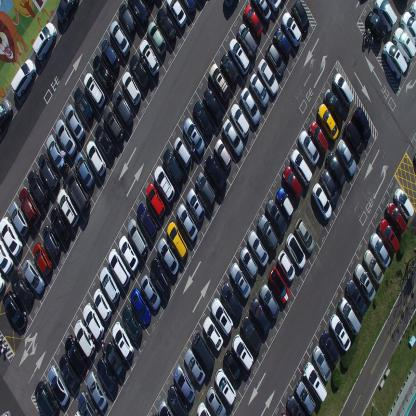car: (65, 168, 91, 214), (1, 289, 28, 330), (10, 57, 36, 98), (31, 21, 57, 61), (382, 40, 408, 80), (46, 364, 70, 406), (303, 360, 327, 402), (10, 268, 34, 308), (182, 116, 205, 157), (0, 215, 23, 256), (204, 155, 226, 197), (149, 256, 171, 298), (264, 198, 287, 238), (221, 118, 244, 158), (57, 188, 80, 228), (220, 282, 243, 322), (37, 152, 60, 192), (108, 248, 131, 288), (192, 332, 215, 372), (210, 296, 233, 336), (353, 262, 376, 302), (338, 296, 361, 336), (173, 364, 196, 404), (166, 221, 188, 262), (157, 236, 179, 277), (73, 318, 95, 359), (55, 118, 77, 159), (64, 335, 86, 376), (240, 314, 262, 355), (392, 26, 416, 63), (176, 204, 198, 244), (130, 285, 152, 325), (247, 230, 269, 270), (82, 302, 104, 342), (153, 163, 175, 203), (192, 99, 214, 139), (209, 62, 231, 102), (112, 321, 134, 361), (86, 371, 108, 411), (58, 353, 80, 393), (317, 102, 339, 142), (104, 340, 127, 378), (290, 148, 313, 186), (297, 129, 320, 167), (35, 380, 59, 416), (22, 258, 46, 294), (99, 265, 120, 306), (127, 217, 148, 258), (256, 214, 278, 253), (112, 89, 134, 128), (27, 169, 49, 208), (92, 54, 114, 93), (162, 147, 184, 186), (96, 357, 118, 396), (232, 333, 254, 372), (18, 187, 40, 226), (250, 297, 271, 337), (258, 57, 279, 97), (74, 152, 96, 190), (229, 263, 251, 301), (268, 266, 290, 304), (329, 313, 351, 351), (138, 38, 160, 76), (368, 232, 391, 268), (122, 304, 143, 343), (336, 137, 357, 176), (128, 53, 150, 90), (324, 88, 346, 125), (332, 71, 354, 108), (345, 279, 367, 316), (214, 368, 236, 405), (8, 200, 30, 237), (228, 37, 250, 74), (377, 219, 400, 254), (45, 133, 65, 173), (65, 102, 85, 142), (240, 85, 260, 125), (136, 201, 157, 239), (118, 234, 139, 272), (103, 105, 124, 143), (259, 283, 280, 321), (49, 207, 70, 245), (83, 72, 105, 108), (373, 0, 397, 33), (73, 85, 93, 124), (140, 274, 161, 311), (109, 19, 130, 56), (363, 248, 384, 285), (184, 348, 205, 385), (385, 200, 407, 235), (86, 138, 106, 176), (230, 102, 250, 140), (286, 232, 306, 270), (312, 182, 332, 220), (326, 152, 346, 190), (312, 344, 332, 382), (281, 10, 301, 48), (194, 172, 215, 208), (94, 124, 115, 160), (202, 316, 223, 352), (236, 22, 257, 58), (121, 70, 141, 107), (202, 87, 222, 124), (146, 182, 166, 219), (319, 168, 339, 205), (223, 349, 243, 386), (146, 20, 166, 57), (248, 72, 269, 107), (295, 216, 314, 254), (42, 224, 62, 260), (282, 166, 302, 202), (308, 120, 328, 156), (294, 380, 315, 414), (167, 383, 189, 415), (32, 242, 52, 277), (156, 8, 176, 43), (243, 3, 263, 38), (93, 286, 112, 322), (344, 120, 363, 156), (100, 38, 120, 72), (320, 331, 340, 365), (265, 42, 285, 76), (365, 10, 386, 42), (186, 188, 205, 223), (240, 246, 259, 281), (291, 0, 310, 35), (394, 187, 414, 220), (353, 106, 371, 142), (213, 140, 232, 174), (275, 186, 294, 220), (117, 2, 136, 36), (165, 0, 187, 29), (173, 135, 191, 170), (205, 386, 226, 416), (220, 52, 238, 86), (55, 0, 79, 25), (273, 28, 293, 58), (277, 248, 295, 281), (77, 390, 99, 415), (127, 0, 149, 25), (0, 236, 14, 275), (400, 10, 416, 44), (251, 0, 272, 25), (0, 98, 13, 134), (286, 393, 304, 415), (157, 398, 173, 416), (180, 0, 197, 15), (267, 0, 282, 15), (197, 400, 211, 416), (223, 0, 237, 11), (408, 0, 415, 22), (0, 270, 5, 292), (0, 408, 13, 415), (278, 411, 287, 415)
